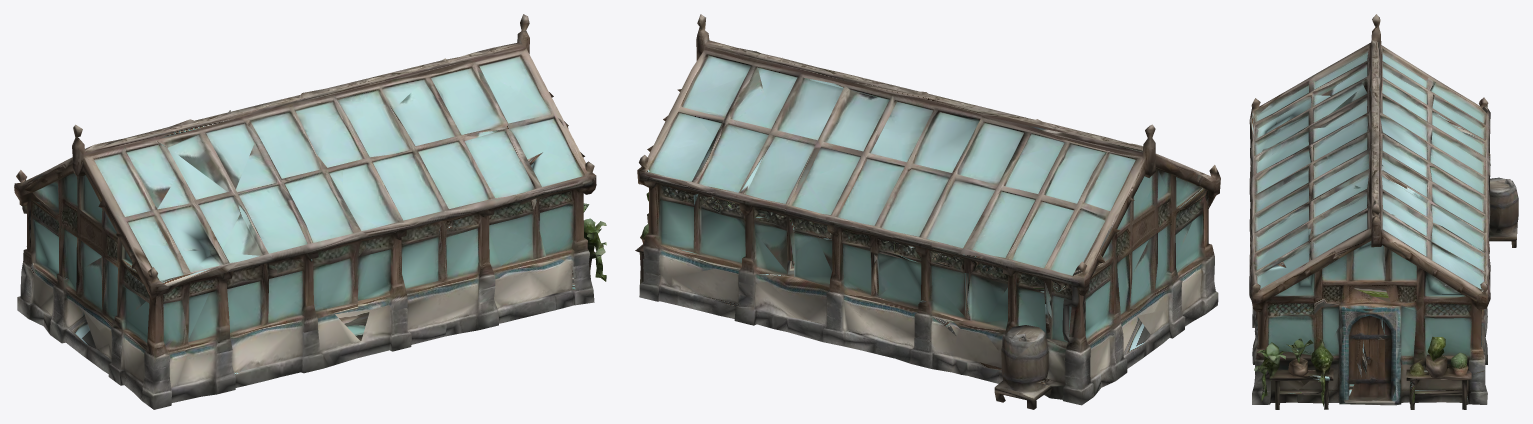
The model's file is greenhouse_0.glb.
The picture shows the model from 3 angles, left to right: view 1: azimuth 30°, elevation 25°; view 2: azimuth 150°, elevation 25°; view 3: azimuth 270°, elevation 25°; orthographic projection. The views are drawn at different scales.
Visible parts, largest first — view 1: tripo_node_d69d393e-1e3e-4517-8158-8a4664c68f18; view 2: tripo_node_d69d393e-1e3e-4517-8158-8a4664c68f18; view 3: tripo_node_d69d393e-1e3e-4517-8158-8a4664c68f18.
Boxes of the visible parts, x1,y1,x2,y2 form: tripo_node_d69d393e-1e3e-4517-8158-8a4664c68f18: (14, 14, 606, 409); tripo_node_d69d393e-1e3e-4517-8158-8a4664c68f18: (635, 14, 1220, 409); tripo_node_d69d393e-1e3e-4517-8158-8a4664c68f18: (1249, 14, 1518, 409).
Bounding box in the file's own units: 0.9798 × 0.4593 × 0.5516.
1 material, 1 textured.
